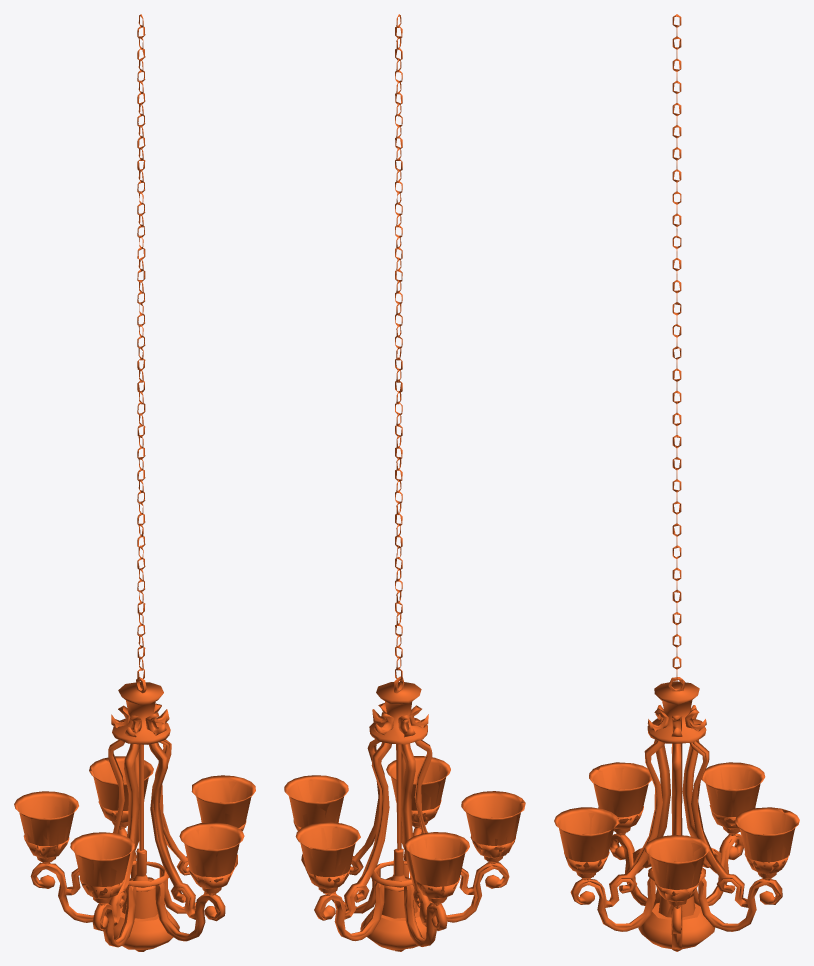
File: chandelier_quarter.obj
3 renders of one model, left to right at view 1: azimuth 30°, elevation 25°; view 2: azimuth 150°, elevation 25°; view 3: azimuth 270°, elevation 25°, orthographic.
Parts seen in each view (by area): view 1: BezierCurve; view 2: BezierCurve; view 3: BezierCurve.
Part boxes in pixels (x1,y1,x2,y2): BezierCurve: [14, 14, 255, 951]; BezierCurve: [284, 14, 525, 951]; BezierCurve: [554, 14, 799, 951].
Bounding box in the file's own units: 6.17 × 26.88 × 6.39.
